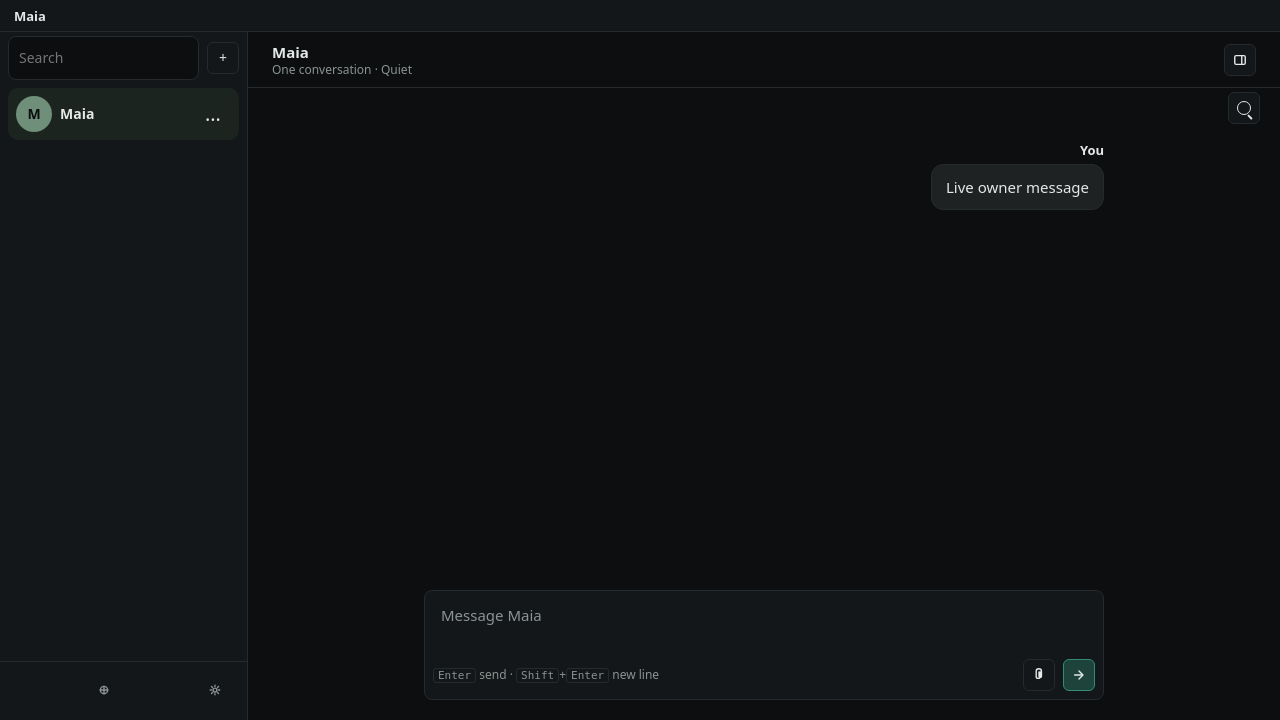
Test: Live shell integration › renders a live inspector snapshot without fixture copy
What coordinates should you click on to do the following:
click the button named "Inspect"
I would click on:
 (1240, 60)
Its box is top-left (1224, 44), bottom-right (1256, 76).
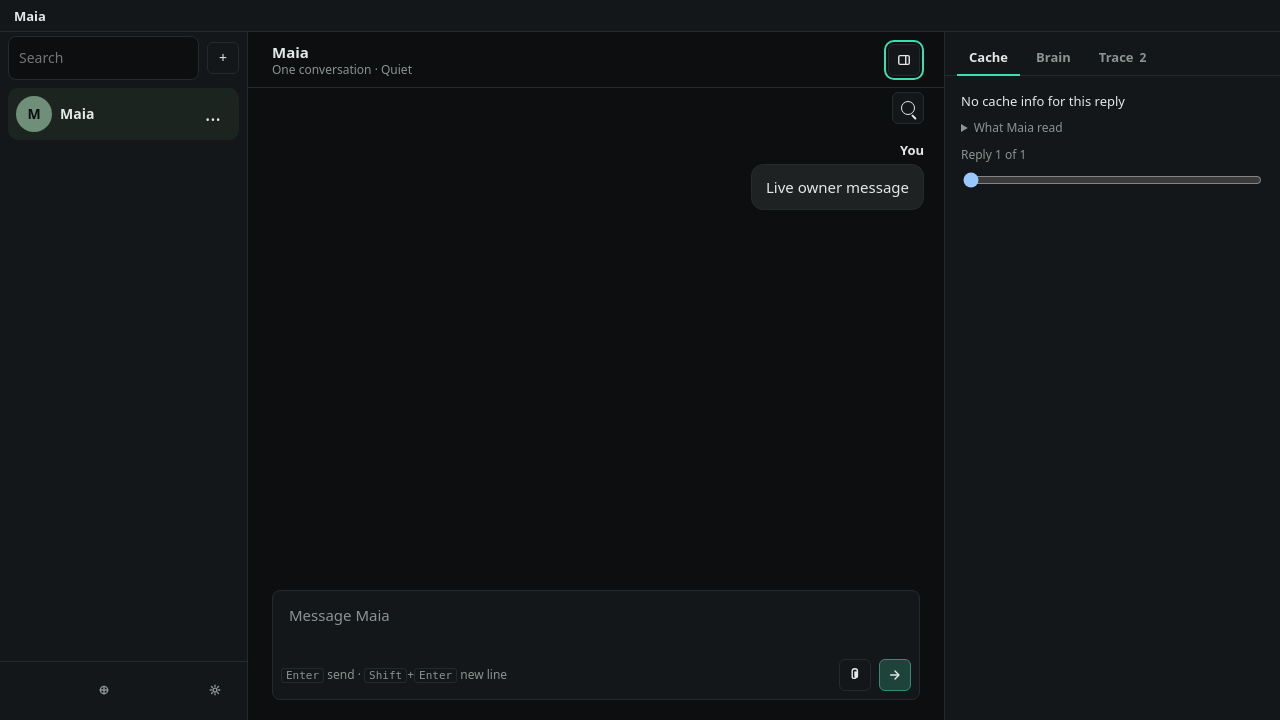
Expected: the text "No cache info for this reply" is shown, top-left (961, 92), bottom-right (1125, 110)
What coordinates should you click on to do the following:
click the tab "Brain"
I would click on:
 (1053, 58)
Its box is top-left (1024, 40), bottom-right (1083, 76).
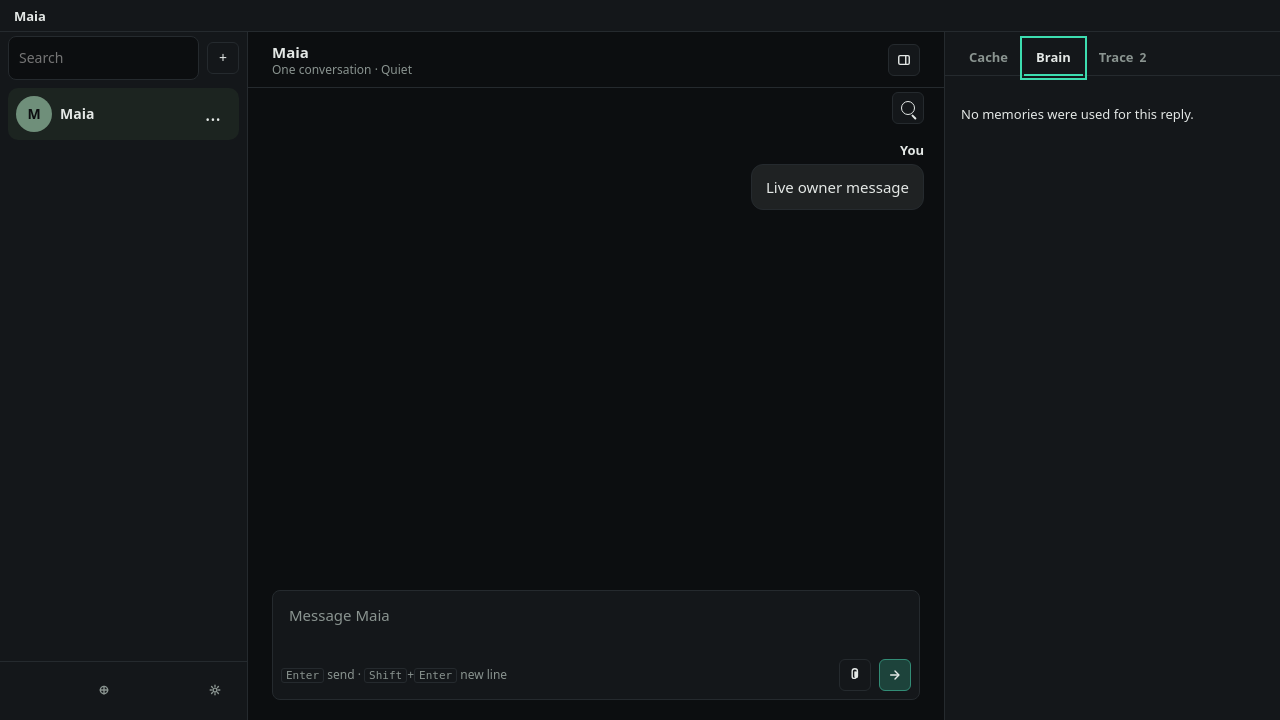
Expected: the text "No memories were used for this reply." is shown, top-left (961, 105), bottom-right (1194, 123)
What coordinates should you click on to do the following:
click the tab "Trace2"
I would click on:
 (1123, 58)
Its box is top-left (1087, 40), bottom-right (1158, 76).
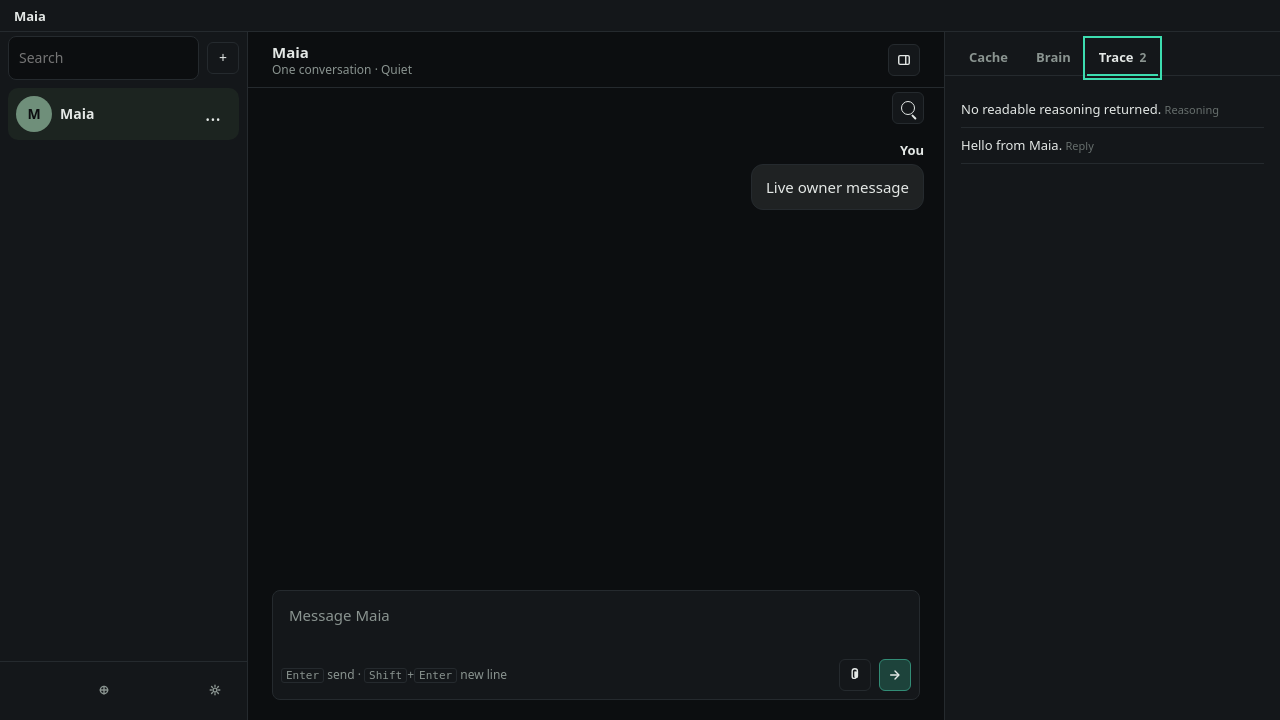
Expected: the text "No readable reasoning returned." is shown, top-left (961, 100), bottom-right (1161, 118)
